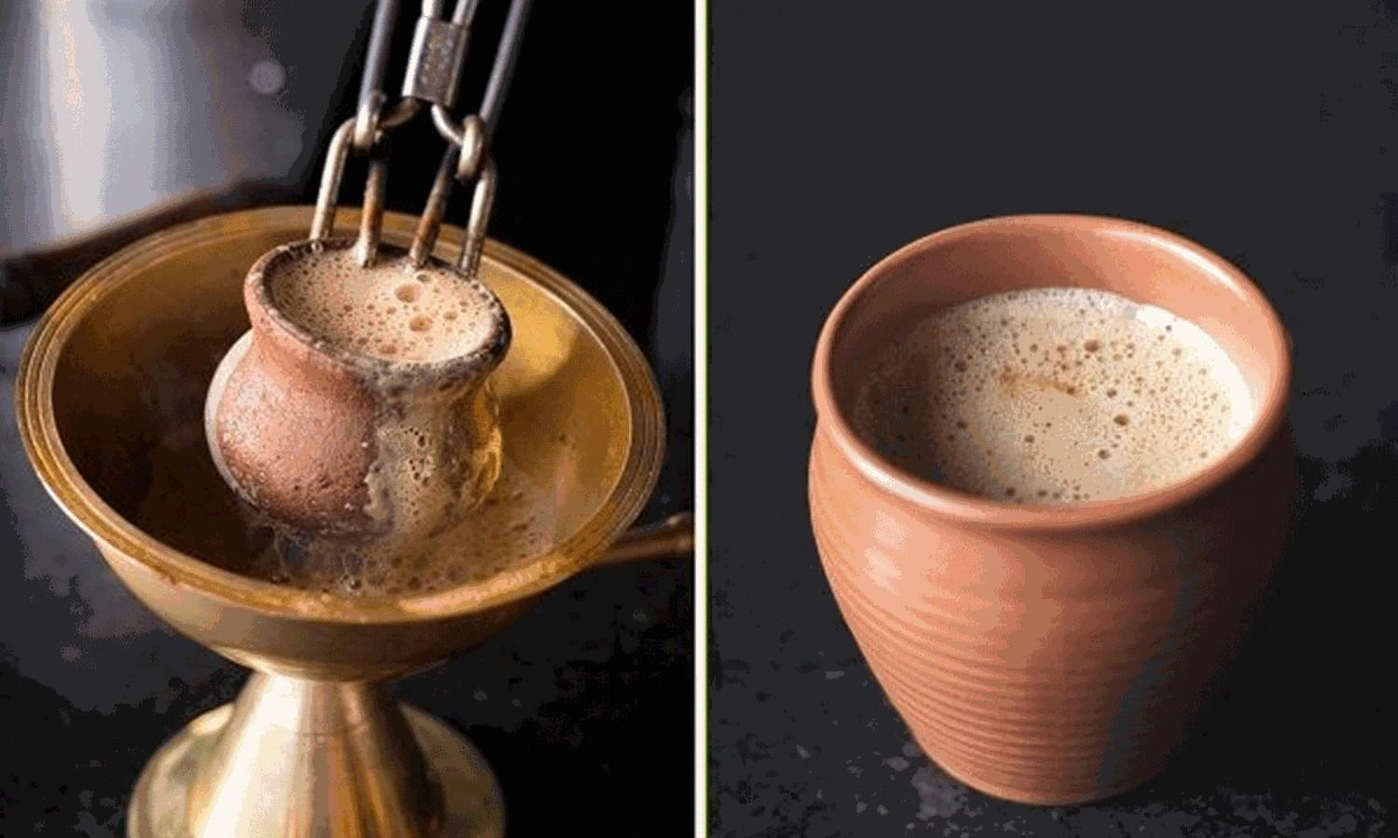Chai: (159, 243, 554, 590), (849, 281, 1257, 516)
